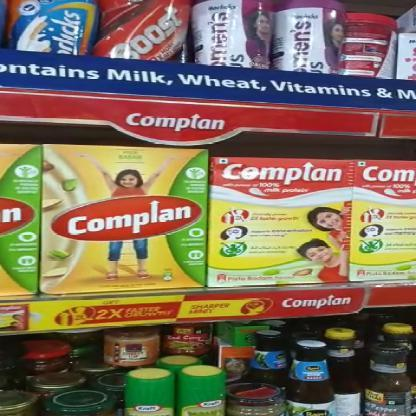Complan Pista Badam: (44, 146, 200, 289), (212, 158, 352, 285)
